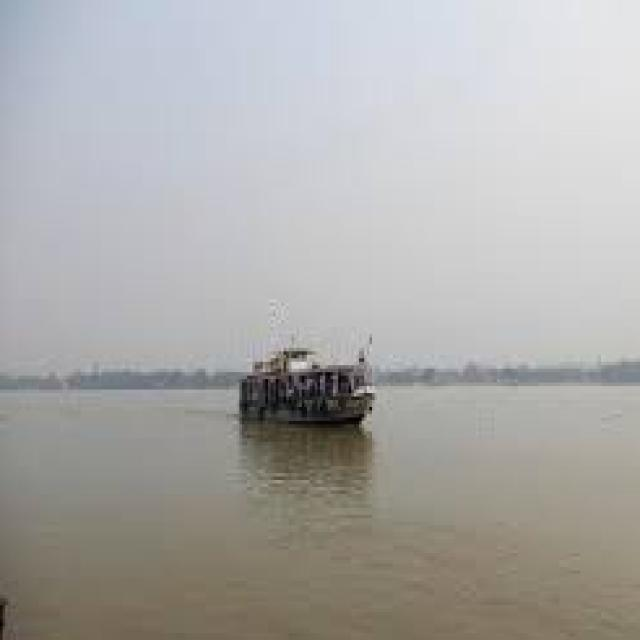houseboat: (233, 326, 381, 430)
